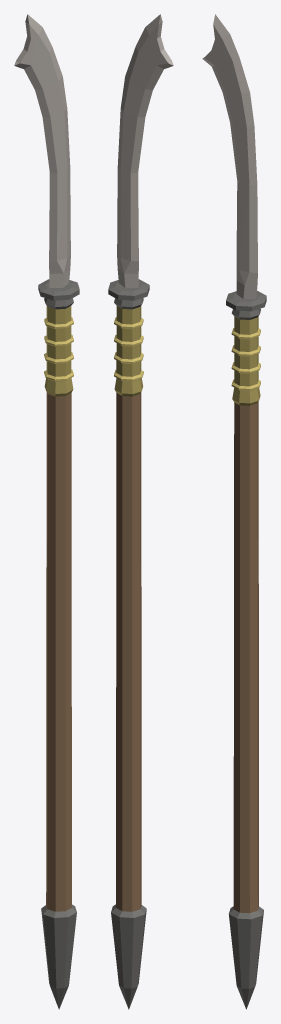
Rendered from SM_pwe_china_halberd_03.fbx.
3 views of the same model, side by side, from view 1: azimuth 30°, elevation 25°; view 2: azimuth 150°, elevation 25°; view 3: azimuth 330°, elevation 25° (orthographic).
Visible parts, largest first — view 1: SM_pwe_china_halberd_03; view 2: SM_pwe_china_halberd_03; view 3: SM_pwe_china_halberd_03.
Boxes of the visible parts, bbox=[...] form: SM_pwe_china_halberd_03: bbox=[14, 14, 79, 1009]; SM_pwe_china_halberd_03: bbox=[108, 14, 173, 1009]; SM_pwe_china_halberd_03: bbox=[202, 14, 266, 1009].
Bounding box in the file's own units: 12.32 × 186 × 7.21.
